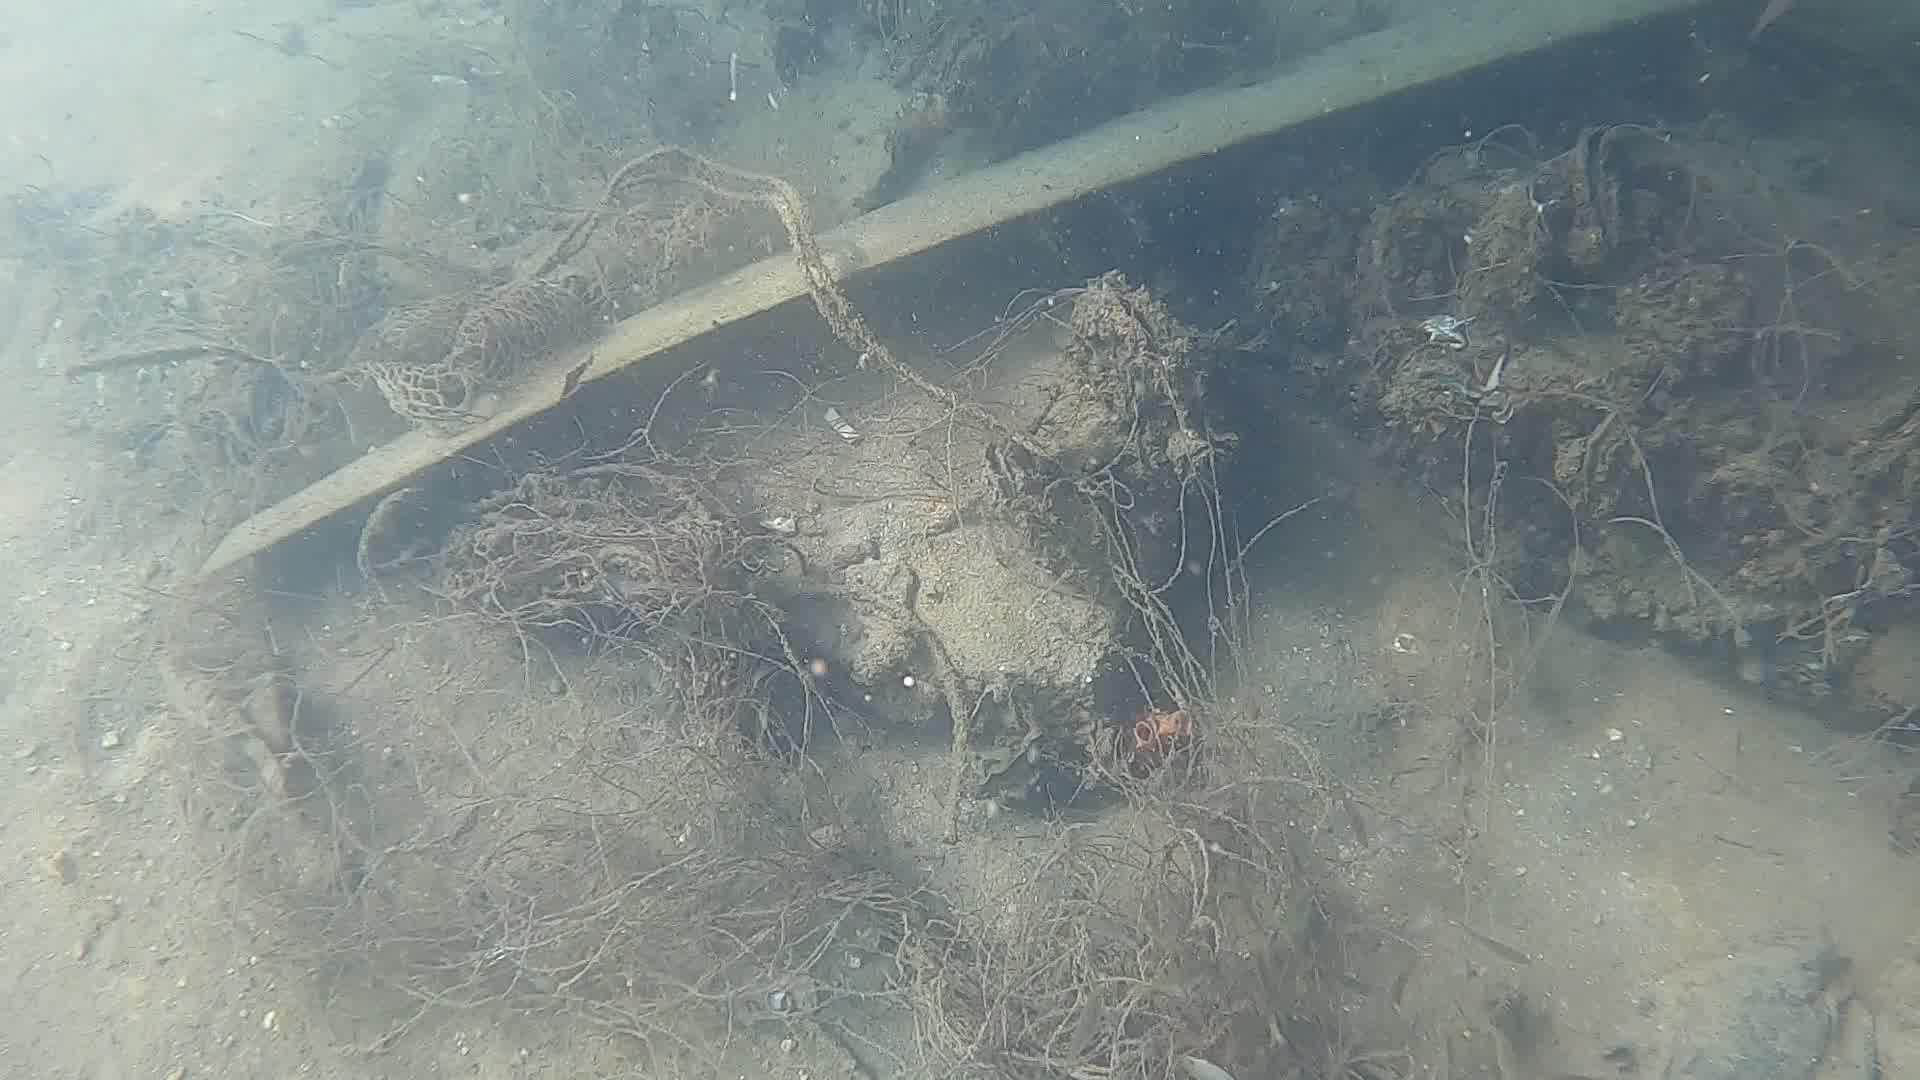fish net: (369, 274, 585, 422)
wood: (196, 0, 1693, 578)
